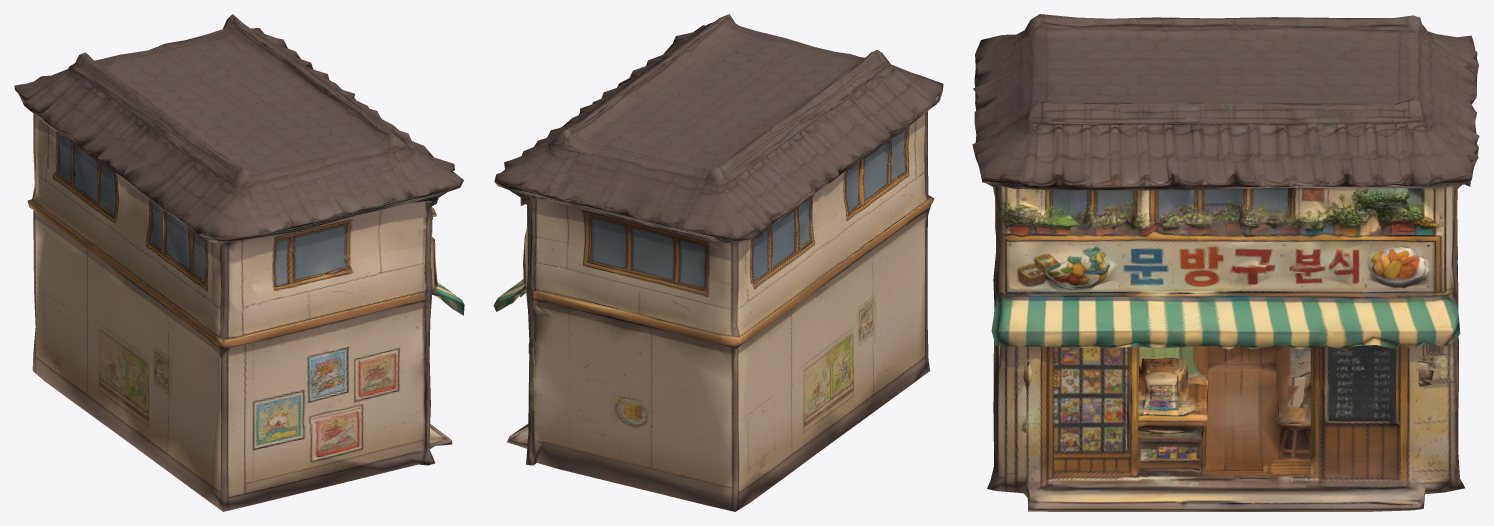
File: Store.fbx
3 renders of one model, left to right at view 1: azimuth 30°, elevation 25°; view 2: azimuth 150°, elevation 25°; view 3: azimuth 270°, elevation 25°, orthographic. The views are drawn at different scales.
Visible parts, largest first — view 1: tripo_node_d9cd938c; view 2: tripo_node_d9cd938c; view 3: tripo_node_d9cd938c.
Part boxes in pixels (x1,y1,x2,y2): tripo_node_d9cd938c: (14, 14, 464, 511); tripo_node_d9cd938c: (493, 14, 943, 511); tripo_node_d9cd938c: (972, 14, 1479, 511).
Size of the model in its own units: 0.6927 by 0.8235 by 0.9952.
Materials: 1 (1 with a texture image).
